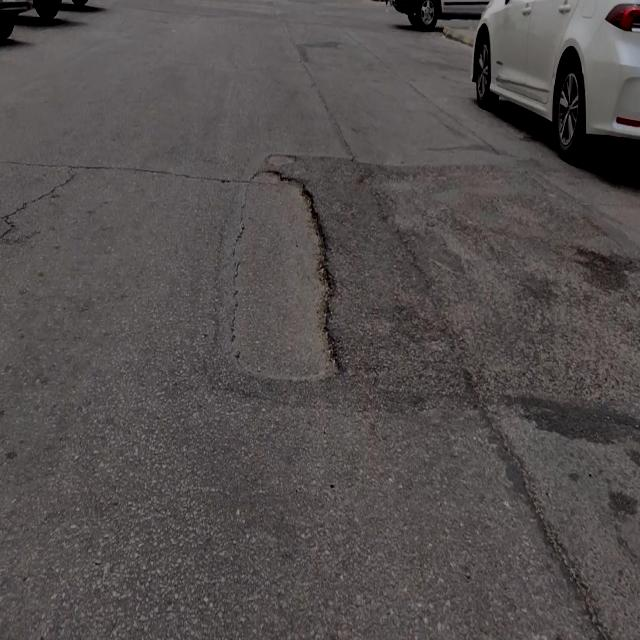Potholes: (232, 167, 340, 376)
